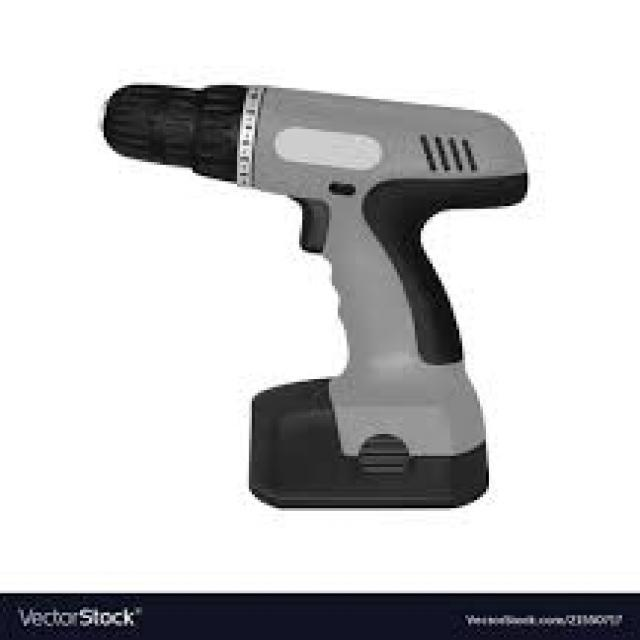drill: (90, 64, 548, 518)
